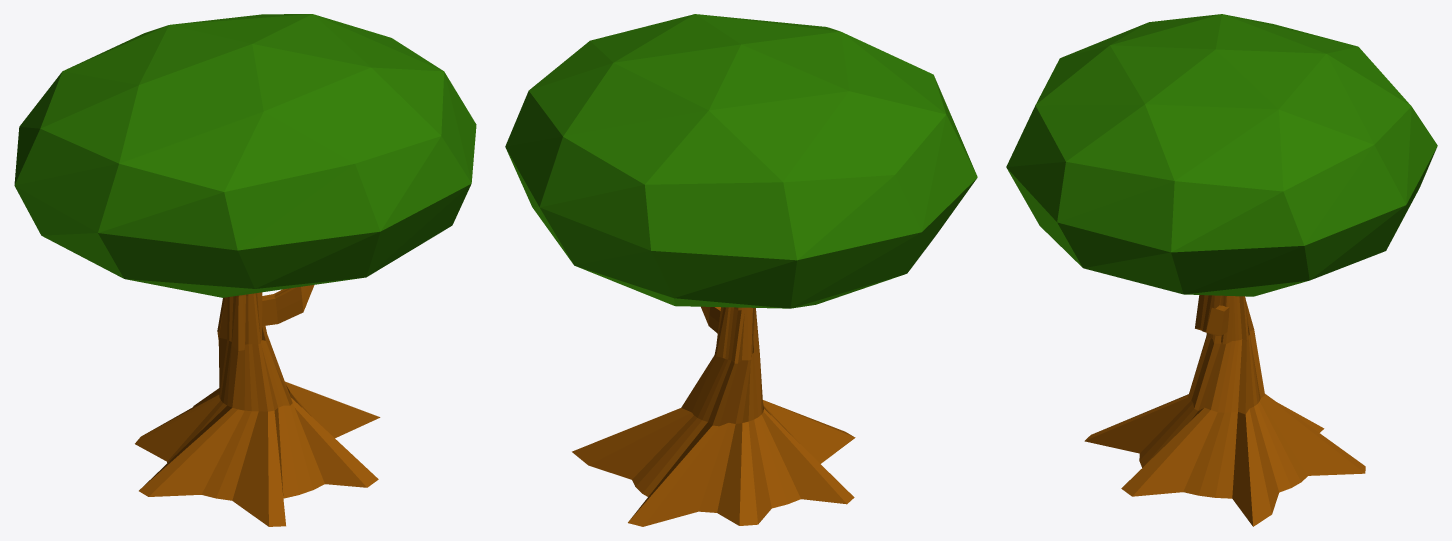
The model's file is Tree002.fbx.
3 renders of one model, left to right at view 1: azimuth 30°, elevation 25°; view 2: azimuth 150°, elevation 25°; view 3: azimuth 270°, elevation 25°, orthographic. The views are drawn at different scales.
Visible parts, largest first — view 1: Cylinder; view 2: Cylinder; view 3: Cylinder.
Part boxes in pixels (bbox=[...]): Cylinder: bbox=[14, 14, 476, 526]; Cylinder: bbox=[505, 14, 977, 526]; Cylinder: bbox=[1006, 14, 1437, 526].
Size of the model in its own units: 1306 by 1294 by 1240.
